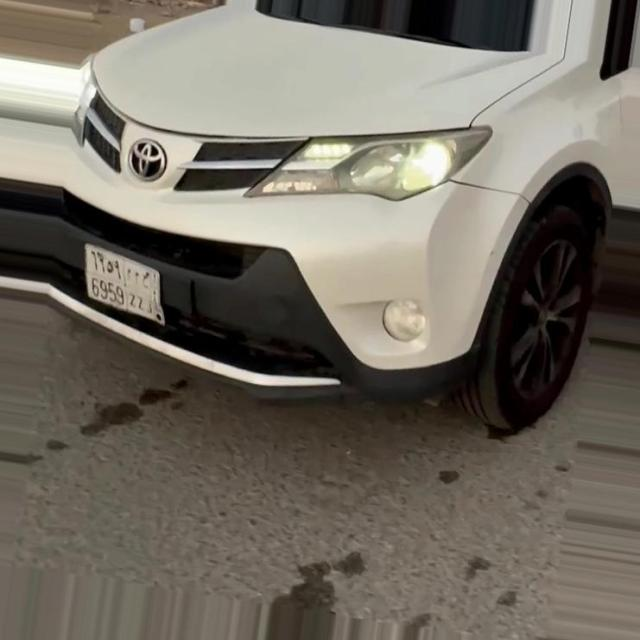Car-plate: (75, 230, 187, 342)
